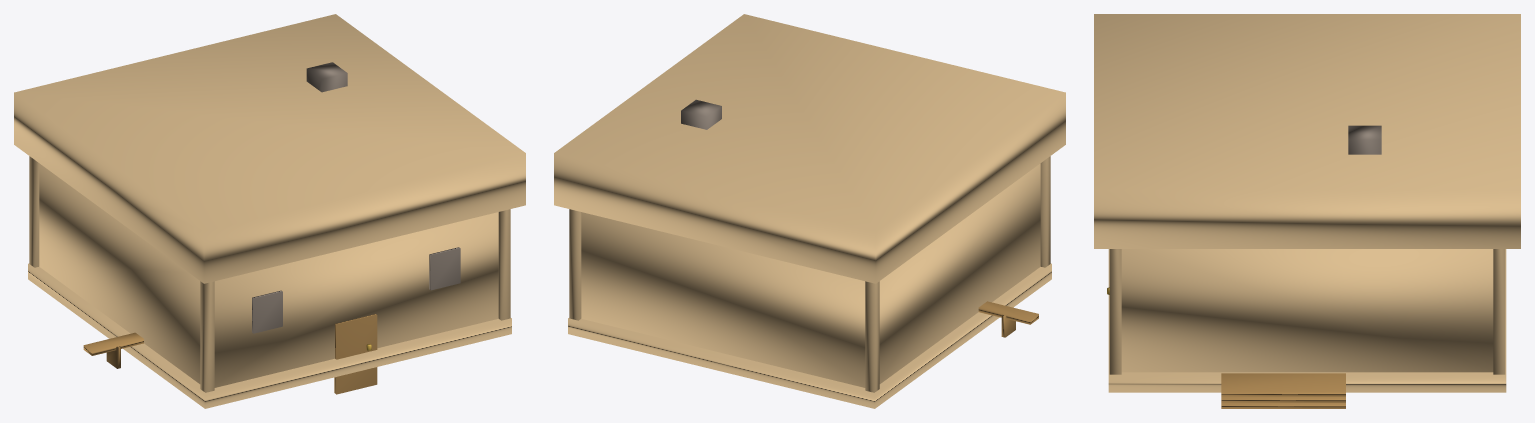
File: workshop.glb
3 views of the same model, side by side, from view 1: azimuth 30°, elevation 25°; view 2: azimuth 150°, elevation 25°; view 3: azimuth 270°, elevation 25° (orthographic). The views are drawn at different scales.
Visible parts, largest first — view 1: cottage, door, window_right, window_left, chimney, workbench_top; view 2: cottage, chimney, workbench_top; view 3: cottage, shelf2, chimney, shelf1, shelf0.
Boxes of the visible parts, x1,y1,x2,y2 form: cottage: [14, 14, 525, 408]; door: [334, 314, 377, 394]; window_right: [429, 247, 460, 290]; window_left: [252, 290, 282, 333]; chimney: [306, 62, 347, 92]; workbench_top: [83, 332, 143, 355]; cottage: [554, 14, 1065, 408]; chimney: [681, 99, 721, 129]; workbench_top: [978, 301, 1038, 324]; cottage: [1094, 14, 1520, 392]; shelf2: [1221, 373, 1345, 396]; chimney: [1348, 125, 1381, 154]; shelf1: [1221, 396, 1345, 402]; shelf0: [1221, 403, 1345, 408].
Size of the model in its own units: 10.65 by 5.59 by 8.9.
